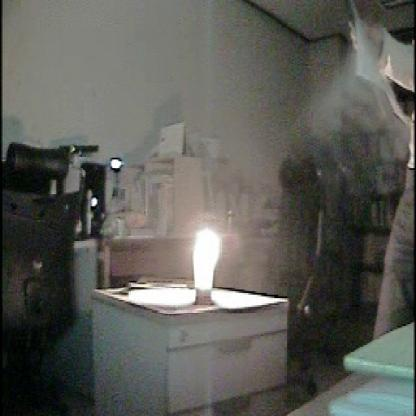fire: (164, 213, 245, 312)
